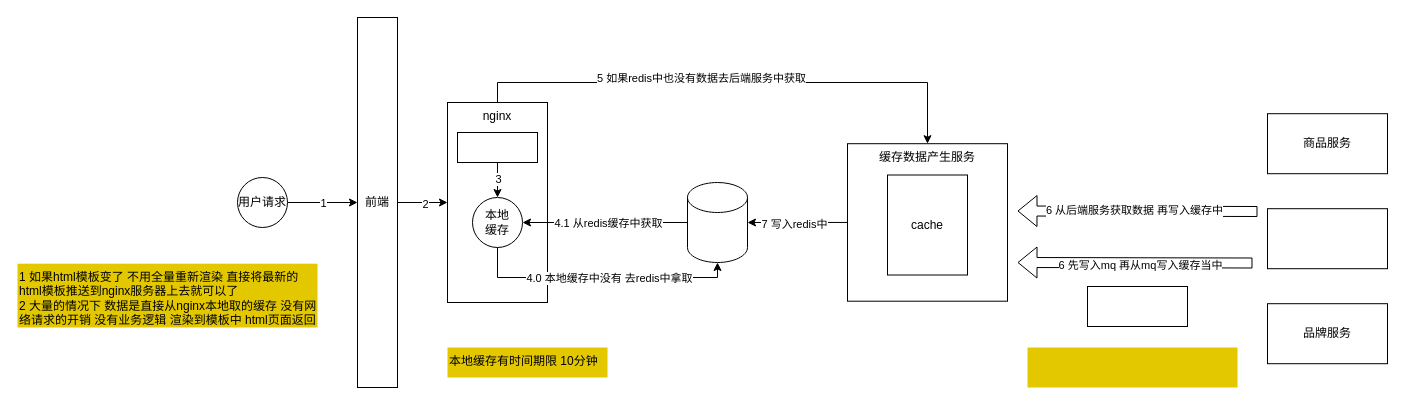
The diagram is 1405 pixels wide and 405 high, and some of its shapes have lost their labels. Here are the shapes that lost their labels. From the top down, the centre of each, then its label:
At pixel 497 147: "html".
At pixel 717 222: "redis".
At pixel 1327 238: "店铺服务".
At pixel 1137 306: "MQ".
At pixel 1132 367: "如果页面的数据有变更 及时监听到 并且写入缓存中 提高并发 高性能的访问".
